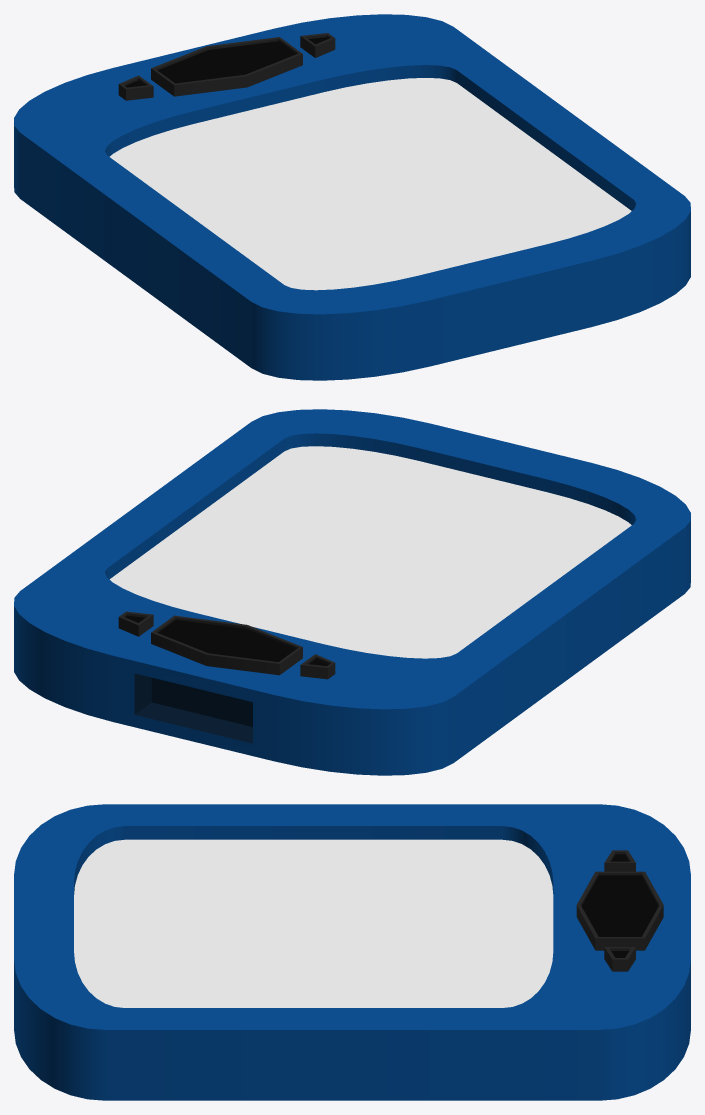
File: PDA.fbx
3 views of the same model, one above another, from view 1: azimuth 30°, elevation 25°; view 2: azimuth 150°, elevation 25°; view 3: azimuth 270°, elevation 25° (orthographic). The views are drawn at different scales.
Parts seen in each view (by area): view 1: PDA; view 2: PDA; view 3: PDA.
Boxes of the visible parts, x1,y1,x2,y2 form: PDA: [14, 14, 690, 380]; PDA: [14, 409, 690, 775]; PDA: [14, 804, 690, 1100].
Bounding box in the file's own units: 26.12 × 4.47 × 33.1.
